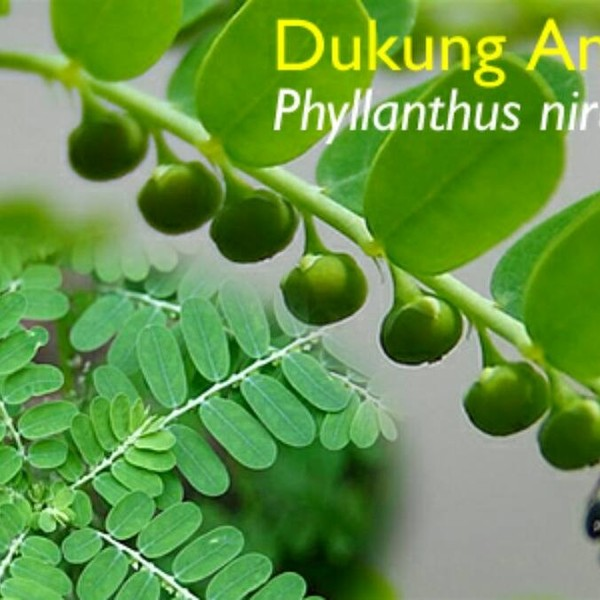obstacle: (184, 50, 593, 524)
